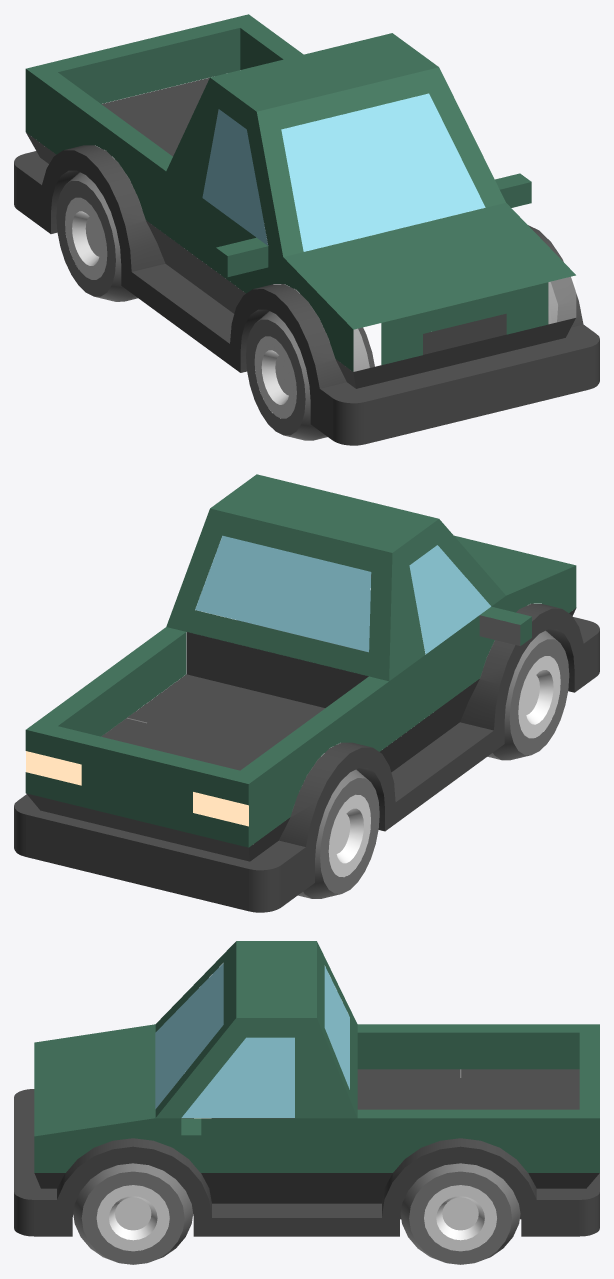
The model's file is truck.gltf.
3 renders of one model, top to bottom at view 1: azimuth 30°, elevation 25°; view 2: azimuth 150°, elevation 25°; view 3: azimuth 270°, elevation 25°, orthographic. The views are drawn at different scales.
Parts seen in each view (by area): view 1: body, wheel_frontRight, wheel_backRight; view 2: body, wheel_frontRight, wheel_backRight; view 3: body, wheel_backLeft, wheel_frontLeft.
Boxes of the visible parts, x1,y1,x2,y2 form: body: (14, 14, 599, 445); wheel_frontRight: (246, 306, 369, 440); wheel_backRight: (56, 159, 137, 301); body: (14, 474, 599, 912); wheel_frontRight: (486, 630, 569, 760); wheel_backRight: (298, 757, 379, 898); body: (14, 941, 599, 1236); wheel_backLeft: (400, 1163, 520, 1264); wheel_frontLeft: (73, 1163, 192, 1264).
Size of the model in its own units: 1.5 by 1.3 by 2.9.
